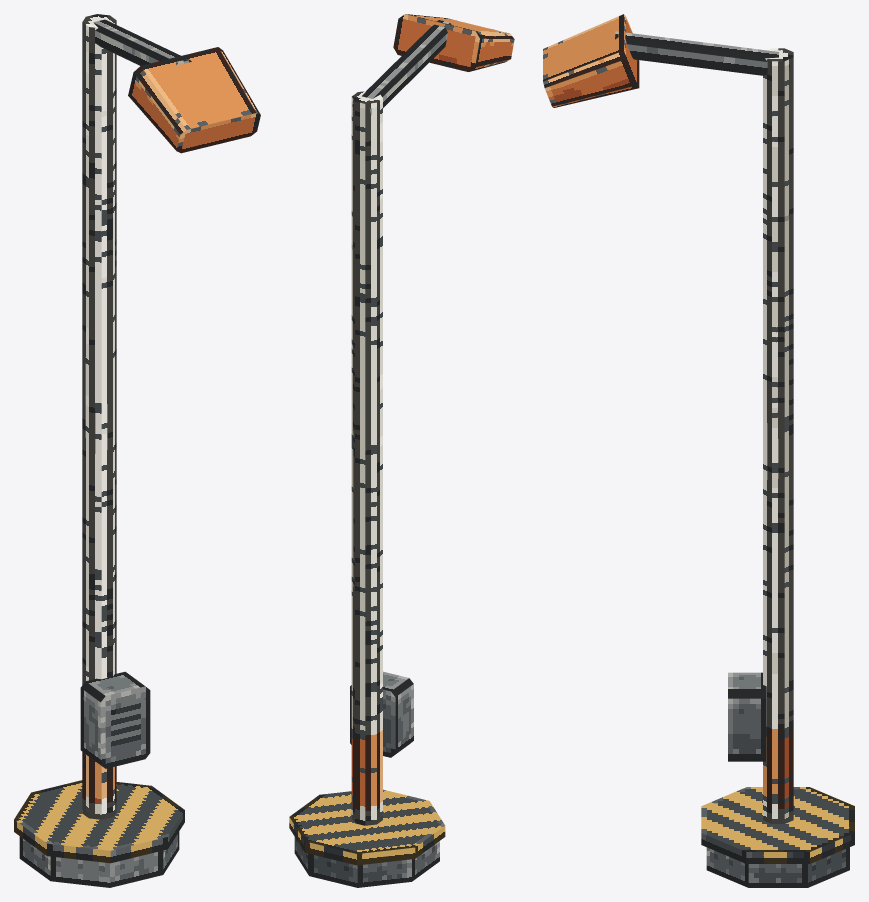
The model's file is st_lamp.glb.
3 renders of one model, left to right at view 1: azimuth 30°, elevation 25°; view 2: azimuth 150°, elevation 25°; view 3: azimuth 270°, elevation 25°, orthographic. The views are drawn at different scales.
Visible parts, largest first — view 1: pole, collar, head, box, footing, arm; view 2: pole, collar, head, footing, box, arm; view 3: pole, collar, head, arm, box, footing.
Boxes of the visible parts, box(x1,y1,x2,y2) form: pole: box(82, 14, 116, 819); collar: box(14, 780, 184, 863); head: box(128, 47, 260, 153); box: box(80, 671, 150, 768); footing: box(19, 832, 179, 887); arm: box(93, 19, 191, 65); pole: box(351, 91, 382, 825); collar: box(289, 789, 445, 865); head: box(393, 14, 514, 71); footing: box(294, 837, 439, 887); box: box(350, 671, 413, 757); arm: box(352, 20, 451, 114); pole: box(763, 48, 793, 823); collar: box(701, 787, 854, 863); head: box(543, 14, 639, 107); arm: box(615, 31, 790, 75); box: box(728, 672, 766, 761); footing: box(706, 847, 849, 887).
Size of the model in its own units: 13.86 by 82.25 by 28.17.
1 material, 1 textured.
